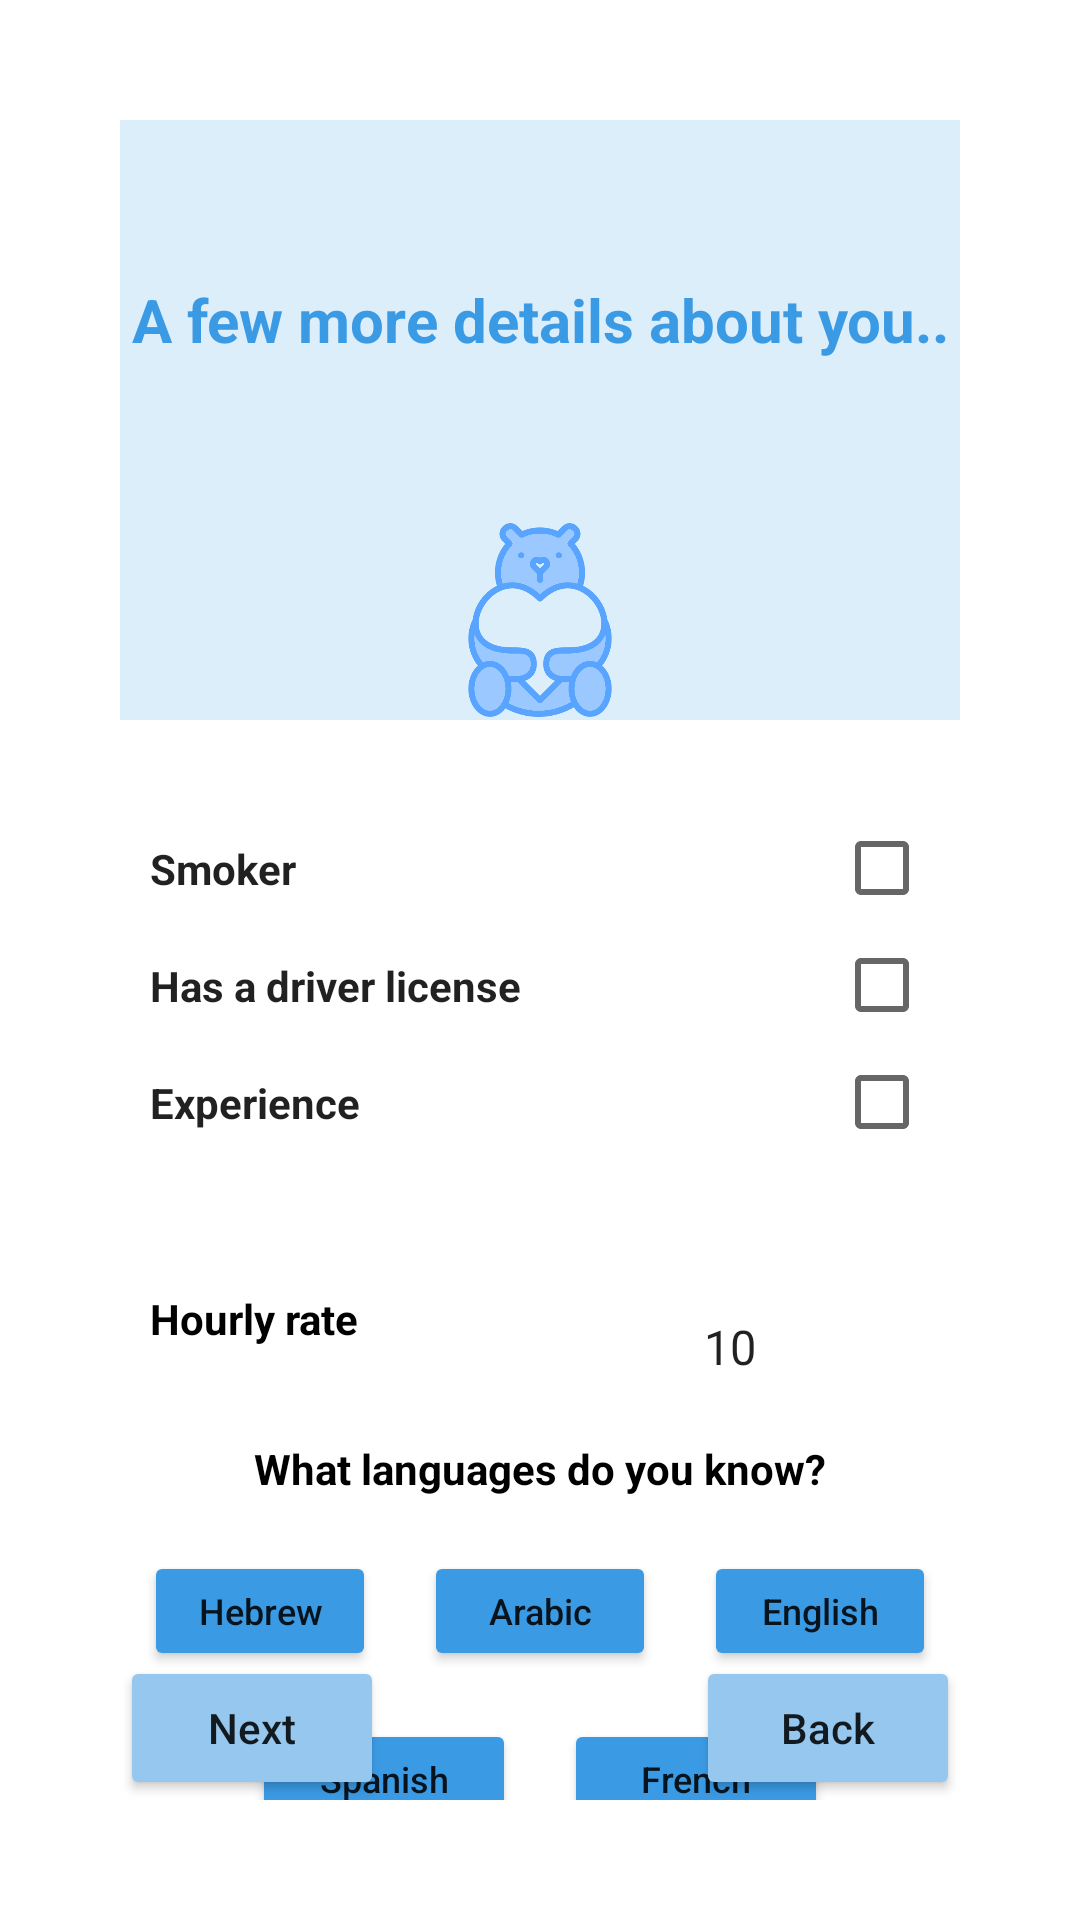

Where icons sit on this 1080*1920 app screen, as bbox=[x1, y1, x2, y2]:
bear: bbox=[468, 523, 612, 717]
